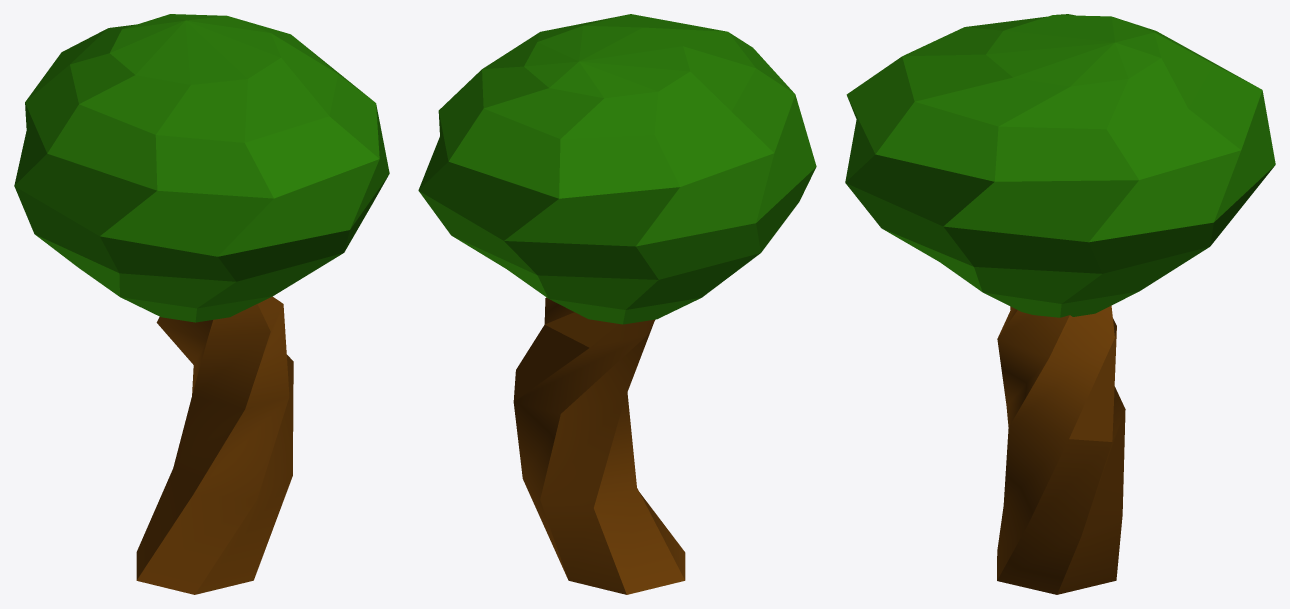
File: twistyTree.fbx
3 views of the same model, side by side, from view 1: azimuth 30°, elevation 25°; view 2: azimuth 150°, elevation 25°; view 3: azimuth 270°, elevation 25° (orthographic). The views are drawn at different scales.
Visible parts, largest first — view 1: twistyTree; view 2: twistyTree; view 3: twistyTree.
Part boxes in pixels (box(x1,y1,x2,y2)): twistyTree: box(14, 14, 389, 594); twistyTree: box(418, 14, 816, 594); twistyTree: box(845, 14, 1275, 594).
Bounding box in the file's own units: 5.1 × 7.79 × 5.7.
